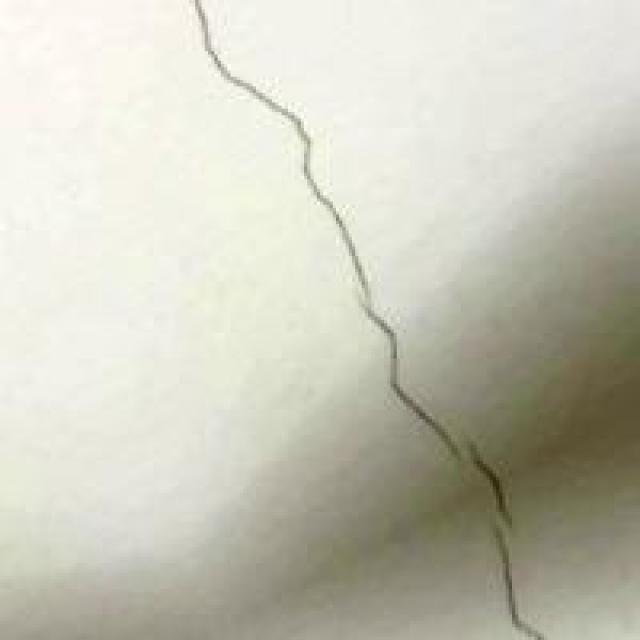Crack: (176, 3, 586, 637)
